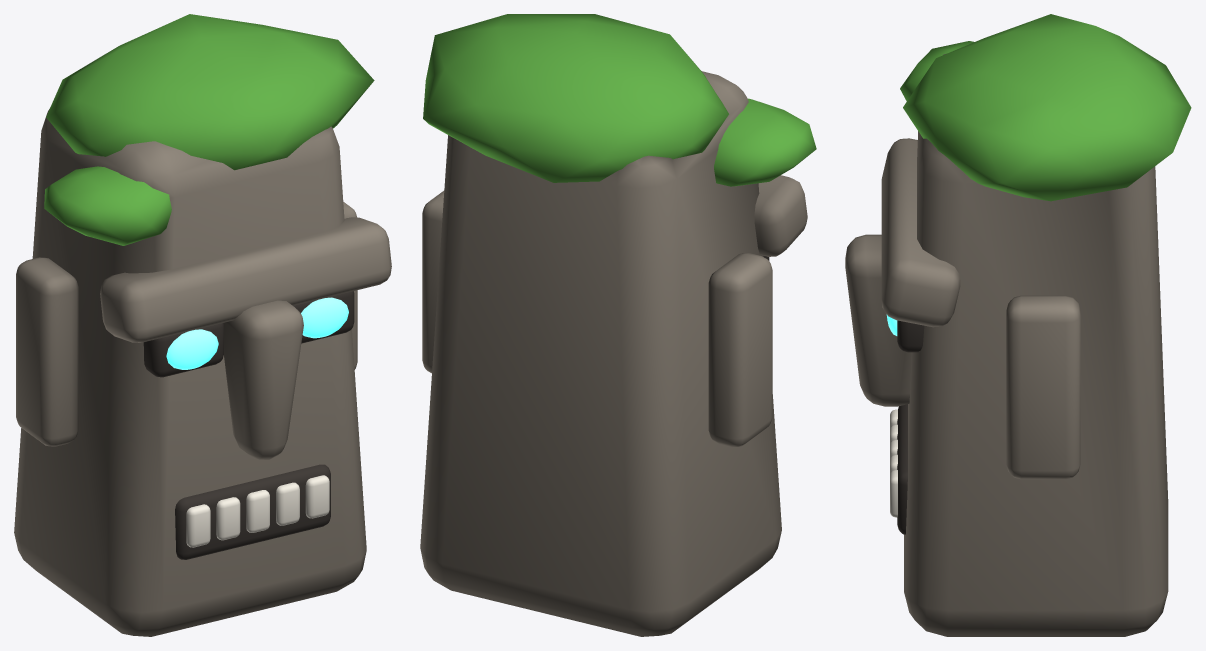
File: tikihead.glb
The picture shows the model from 3 angles, left to right: view 1: azimuth 30°, elevation 25°; view 2: azimuth 150°, elevation 25°; view 3: azimuth 270°, elevation 25°; orthographic projection. The views are drawn at different scales.
Parts seen in each view (by area): view 1: TikiHead; view 2: TikiHead; view 3: TikiHead.
Boxes of the visible parts, left/top/right/bottom form: TikiHead: left=14, top=14, right=391, bottom=636; TikiHead: left=420, top=14, right=816, bottom=636; TikiHead: left=845, top=14, right=1191, bottom=636.
Size of the model in its own units: 5.41 by 8.21 by 4.66.
